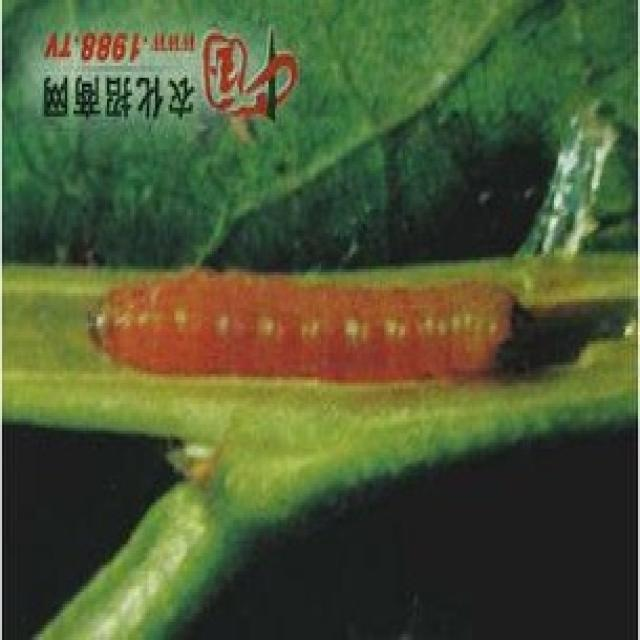peach borer: (73, 281, 522, 385)
